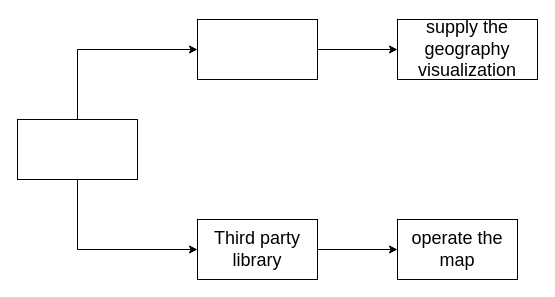
This 555x297 diagram has some shape labels left out. Each missing label, with the centre of its shape:
"Map data service" belongs at (257,49).
"Map requirements" belongs at (77,149).
